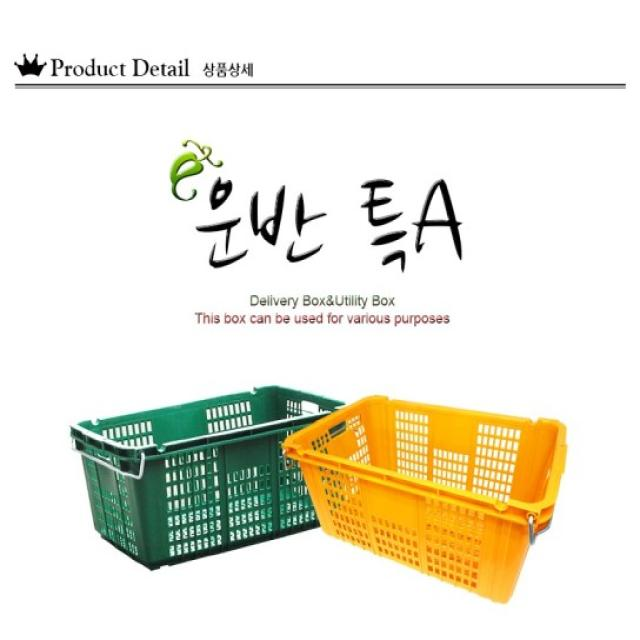basket: (267, 387, 572, 610), (68, 359, 371, 582)
